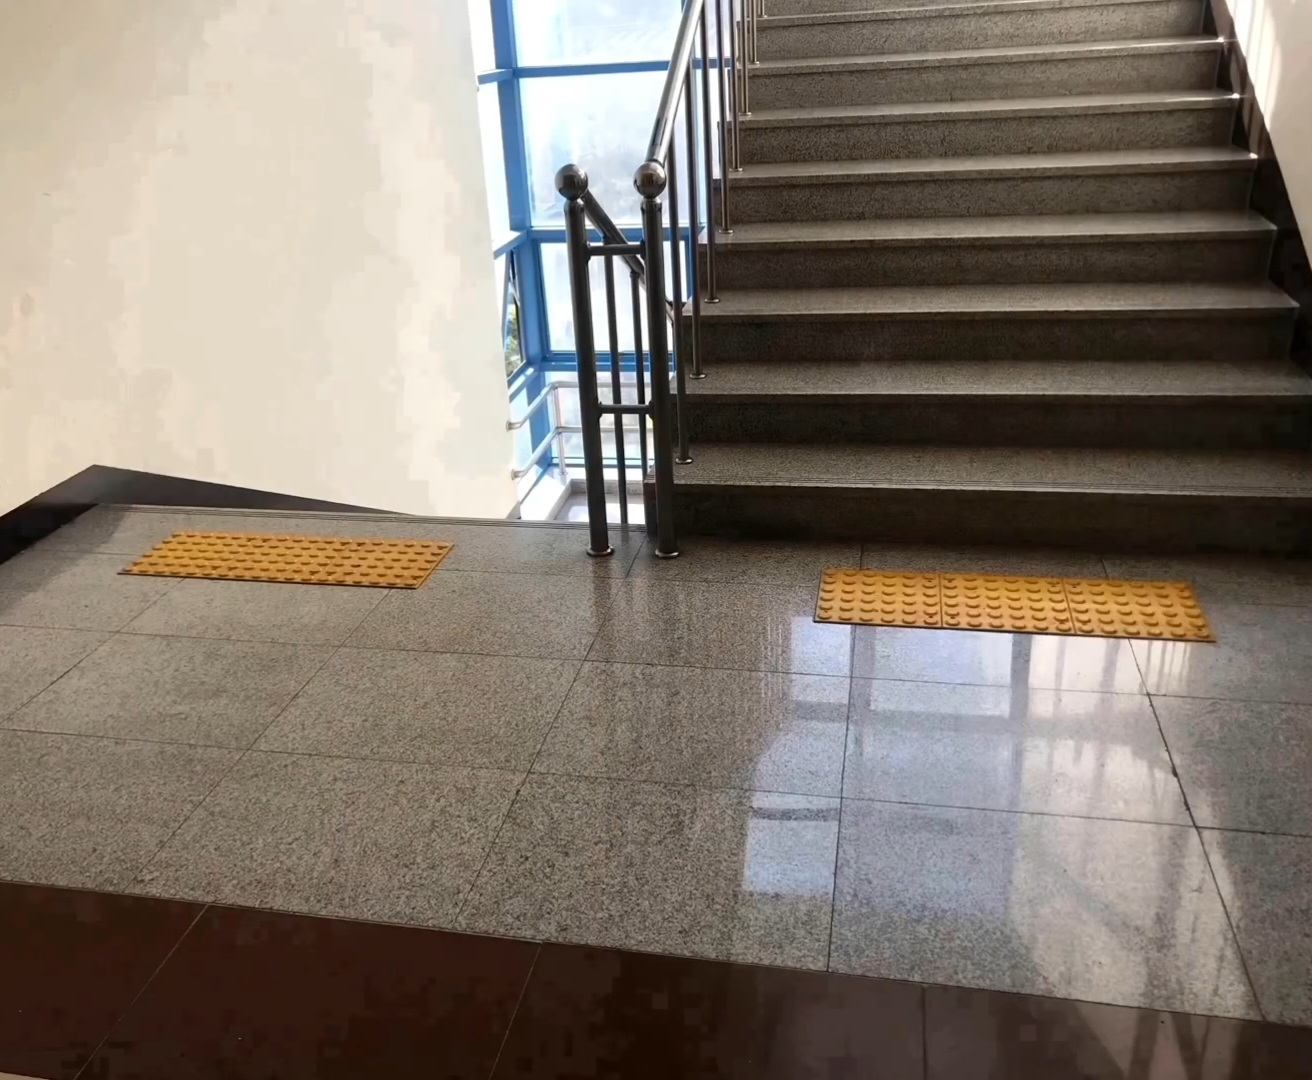warningBlock: (811, 565, 942, 635), (939, 565, 1070, 635), (1064, 587, 1205, 644), (236, 532, 349, 603), (342, 539, 441, 585), (158, 526, 233, 575)
